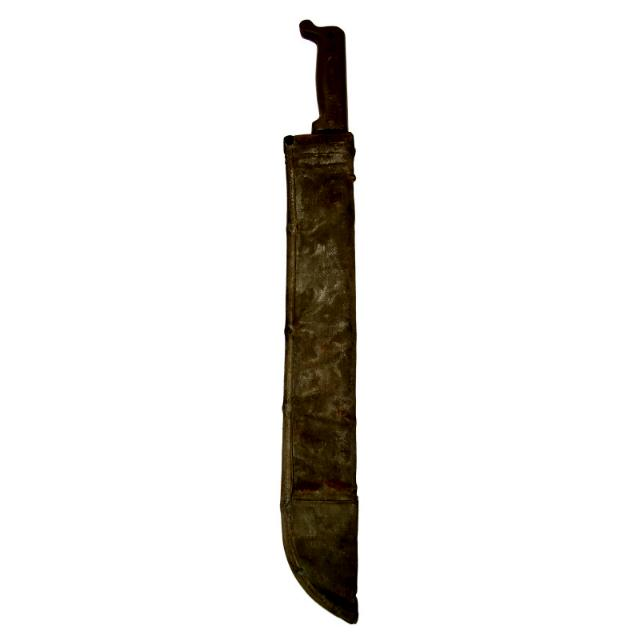long knife: (277, 15, 375, 621)
